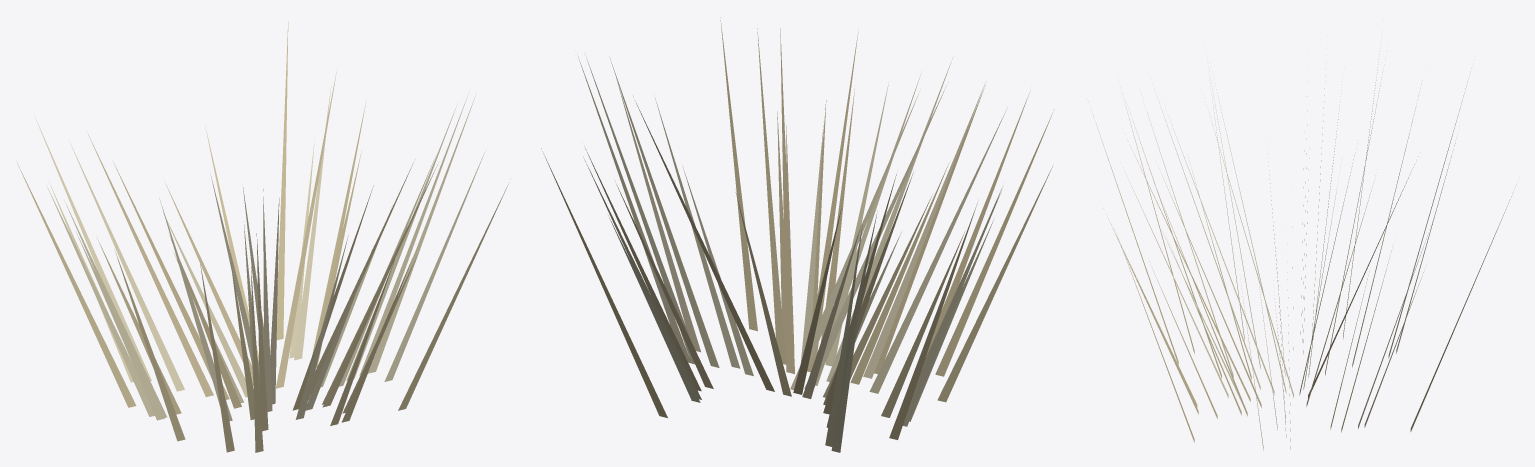
The model's file is susuki_pampas_grass.glb.
The picture shows the model from 3 angles, left to right: view 1: azimuth 30°, elevation 25°; view 2: azimuth 150°, elevation 25°; view 3: azimuth 270°, elevation 25°; orthographic projection. The views are drawn at different scales.
Parts seen in each view (by area): view 1: susuki_pampas_grass; view 2: susuki_pampas_grass; view 3: susuki_pampas_grass.
Part boxes in pixels (bbox=[...]): susuki_pampas_grass: bbox=[17, 21, 509, 452]; susuki_pampas_grass: bbox=[541, 17, 1054, 452]; susuki_pampas_grass: bbox=[1093, 51, 1514, 450].
Size of the model in its own units: 3.08 by 1.97 by 2.65.
